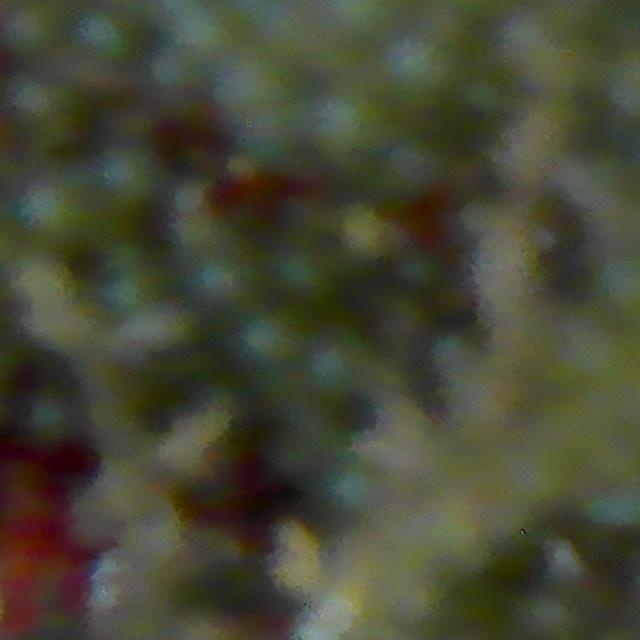SeaGrape: (303, 84, 387, 166), (219, 48, 295, 123), (381, 32, 458, 106), (374, 131, 450, 204), (14, 173, 86, 245), (90, 140, 161, 210), (186, 241, 258, 310), (3, 68, 73, 137), (269, 239, 336, 304), (320, 0, 394, 52), (70, 6, 133, 67), (0, 0, 64, 58), (237, 314, 292, 375), (315, 342, 366, 401)
